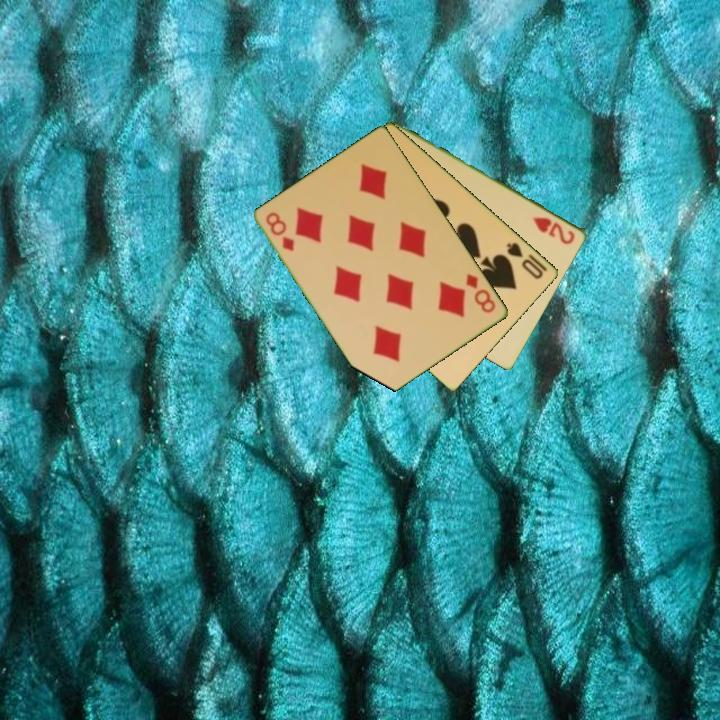10s: (503, 239, 546, 282)
2h: (529, 213, 578, 247)
8d: (463, 270, 499, 316), (262, 209, 298, 254)
